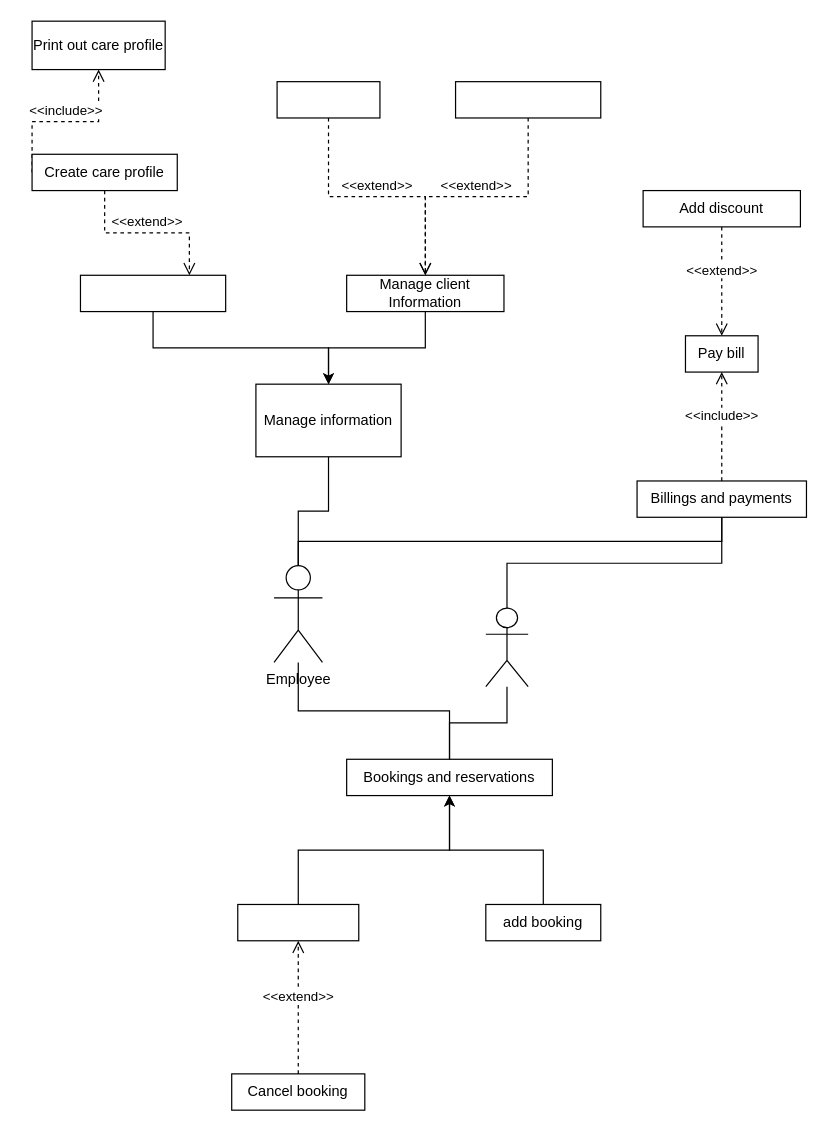
This 828x1131 diagram has some shape labels left out. Each missing label, with the centre of its shape:
Add client: the point at 328,99
Client: the point at 506,647
Edit booking: the point at 298,922
Manage pet information: the point at 152,293
Search clients: the point at 527,99
